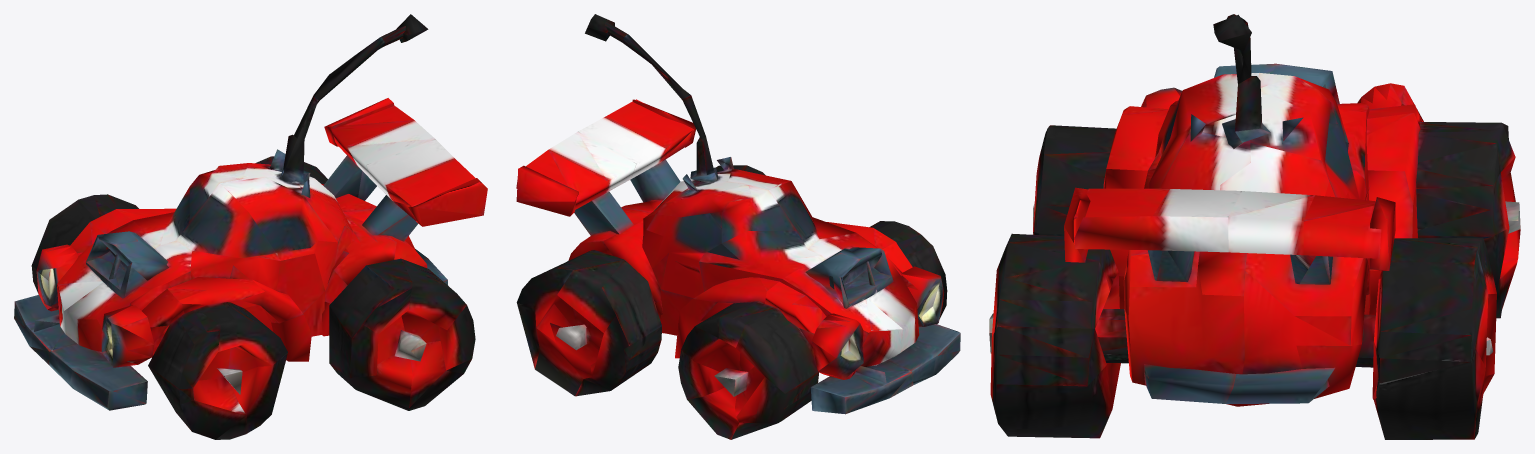
Rendered from stamp_racer.glb.
The picture shows the model from 3 angles, left to right: view 1: azimuth 30°, elevation 25°; view 2: azimuth 150°, elevation 25°; view 3: azimuth 270°, elevation 25°; orthographic projection. The views are drawn at different scales.
Size of the model in its own units: 0.998 by 0.8164 by 0.834.
1 material, 1 textured.
